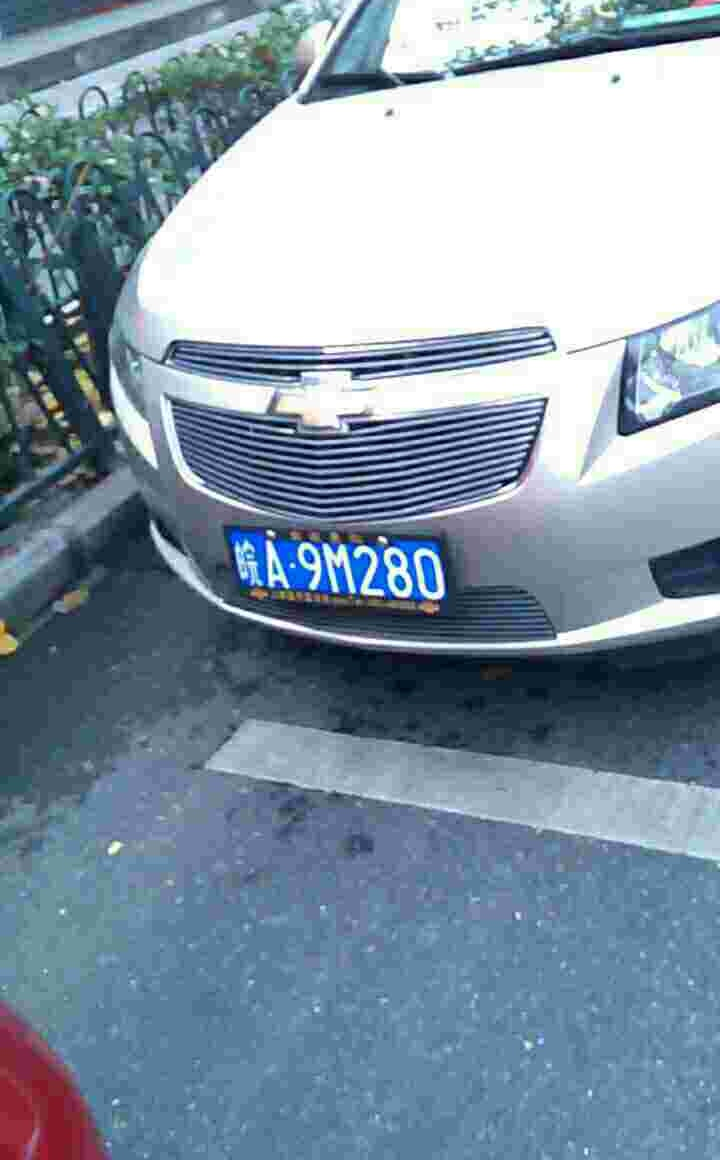license_plate: (236, 524, 465, 592)
